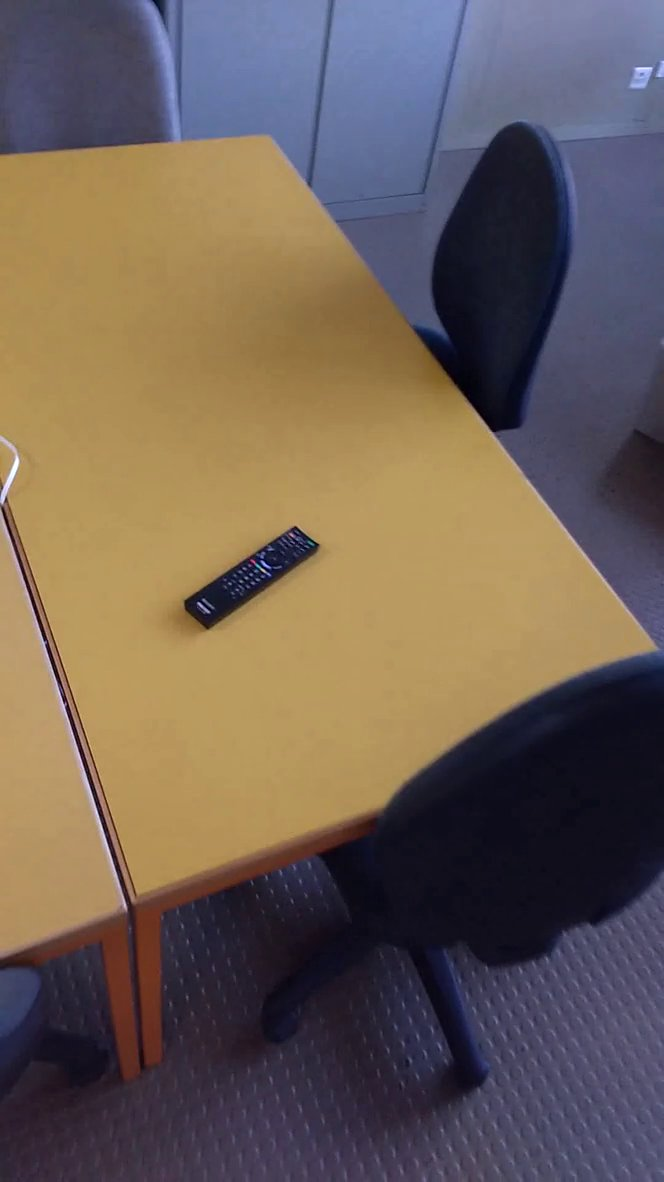chair: (398, 108, 588, 464)
remote: (180, 517, 330, 637)
